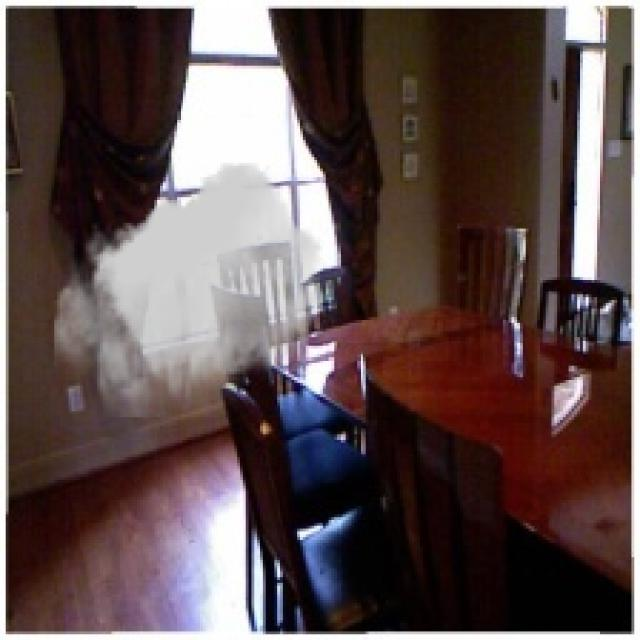smoke: (54, 163, 326, 417)
